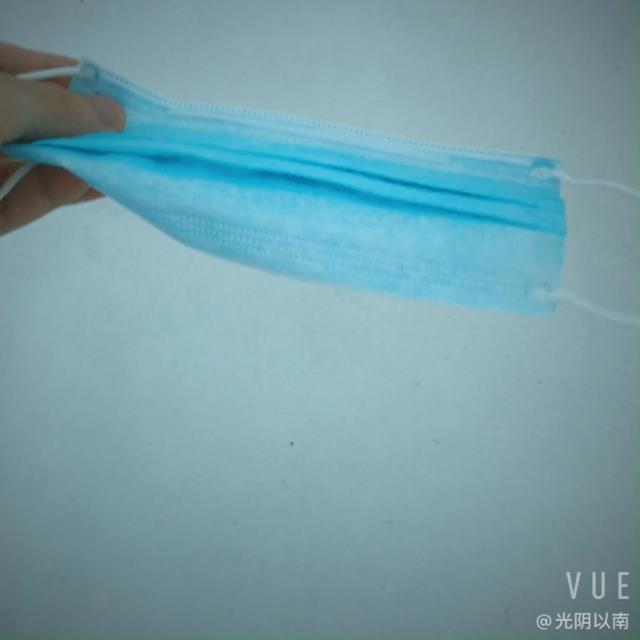face mask: (66, 102, 558, 311)
